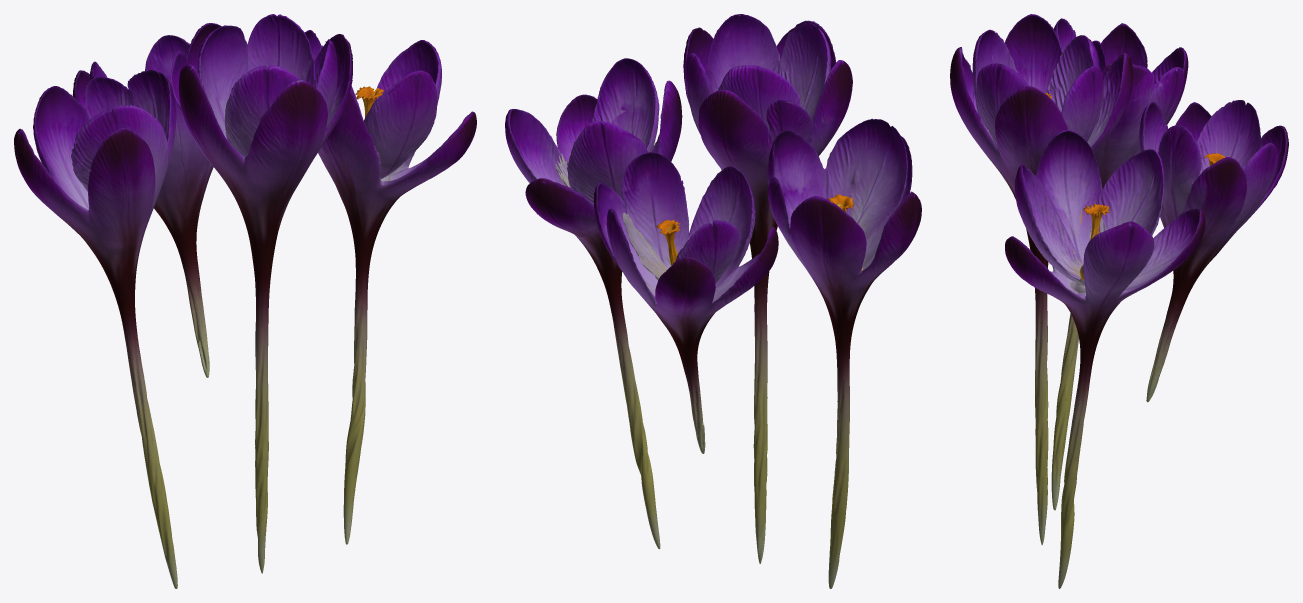
File: f5c599ae-5a25-42ee-a0f5-f092604bffe7-draco.glb
3 renders of one model, left to right at view 1: azimuth 30°, elevation 25°; view 2: azimuth 150°, elevation 25°; view 3: azimuth 270°, elevation 25°, orthographic. The views are drawn at different scales.
Visible parts, largest first — view 1: tripo_node_f5c599ae-5a25-42ee-a0f5-f092604bffe7; view 2: tripo_node_f5c599ae-5a25-42ee-a0f5-f092604bffe7; view 3: tripo_node_f5c599ae-5a25-42ee-a0f5-f092604bffe7.
Boxes of the visible parts, x1,y1,x2,y2 form: tripo_node_f5c599ae-5a25-42ee-a0f5-f092604bffe7: (14,14,476,588); tripo_node_f5c599ae-5a25-42ee-a0f5-f092604bffe7: (505,14,921,588); tripo_node_f5c599ae-5a25-42ee-a0f5-f092604bffe7: (950,14,1288,588).
Size of the model in its own units: 0.122 by 0.15 by 0.0916.
Materials: 1 (1 with a texture image).
